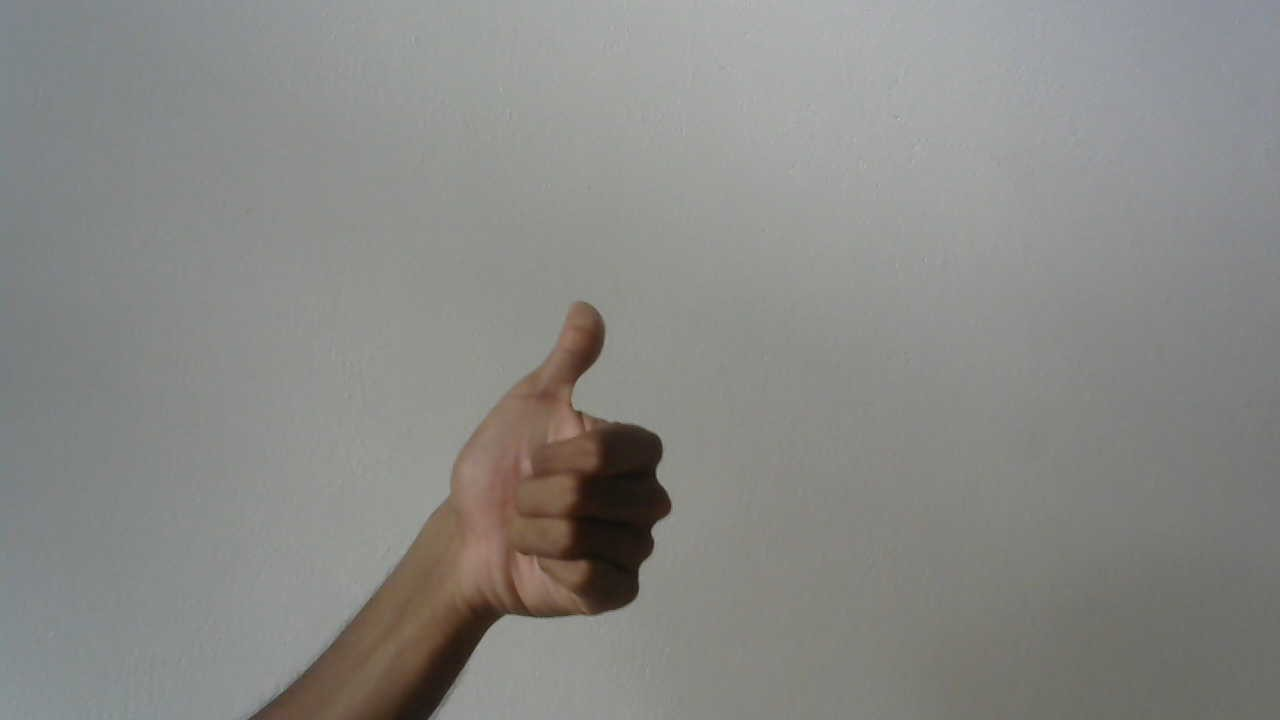thumbsup: (440, 293, 677, 637)
